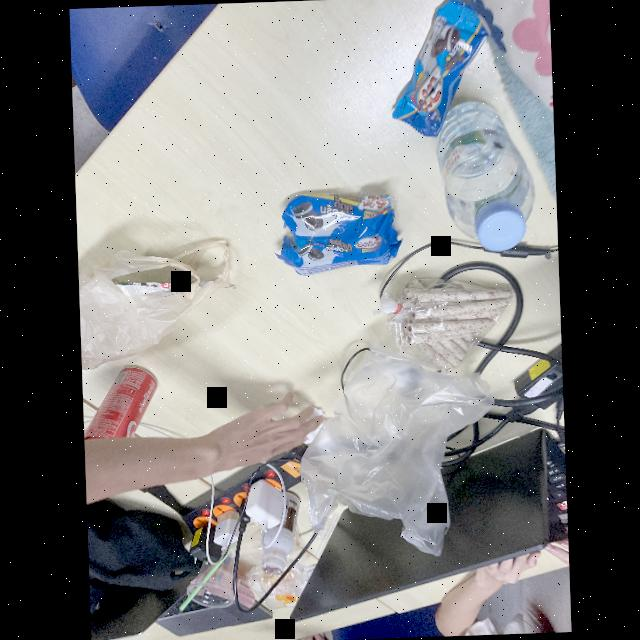can: (82, 358, 165, 460)
plastic_bag: (298, 346, 499, 560), (78, 230, 244, 377)
plastic_bottle: (434, 94, 540, 256), (257, 488, 308, 580)
plastic_bottle_cap: (465, 198, 533, 258)
plastic_box: (249, 560, 310, 616)
plastic_cup: (184, 543, 242, 613)
snack_bag: (383, 0, 504, 141), (374, 274, 520, 382), (271, 182, 405, 283)
straw: (179, 561, 229, 611)
